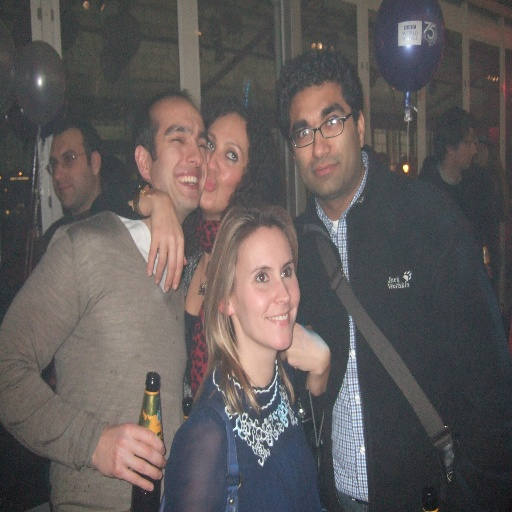hand: (91, 421, 166, 491), (145, 194, 188, 290), (291, 331, 329, 400)
